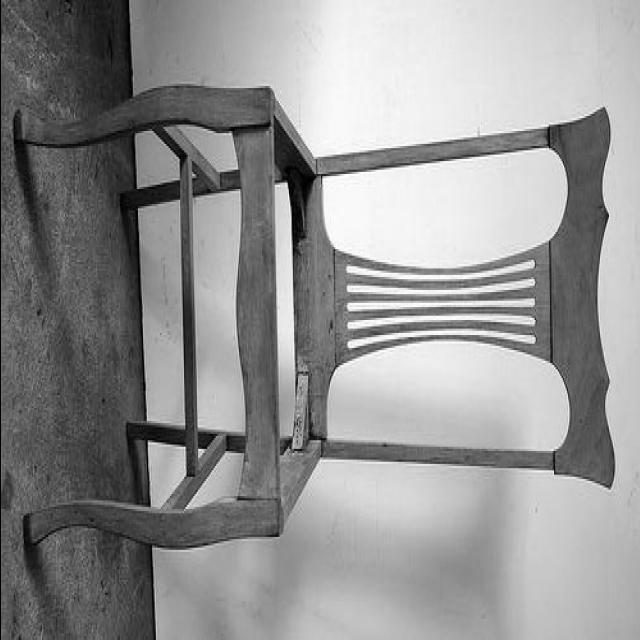chair: (12, 89, 618, 552)
